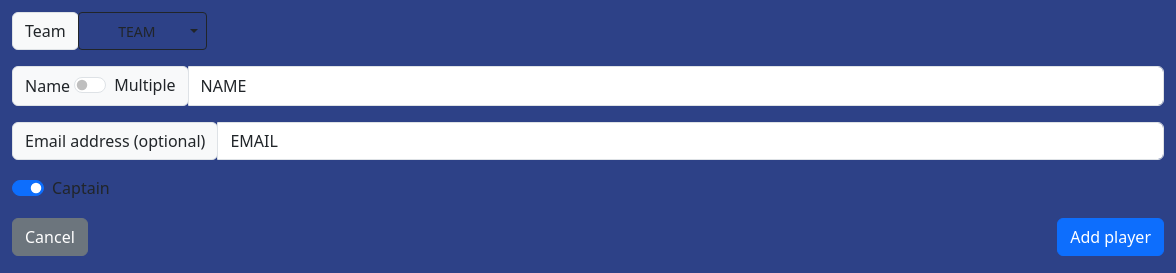
Test: EditPlayerDetails › interactivity › can change to multi-add for new player
The image size is (1176, 273).
Click the checkbox named "multiple": click(90, 85) left=74, top=77, right=106, bottom=93
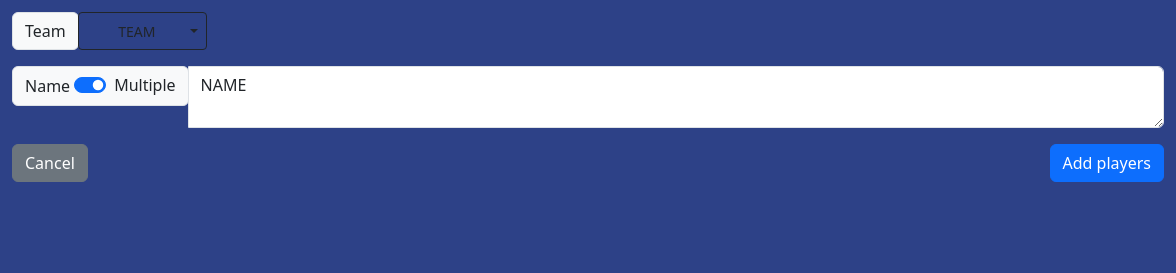
Now the text box holds "NAME", box left=188, top=66, right=1164, bottom=128
Now the checkbox named "captain" is gone
Now the label named "emailAddress" is gone
